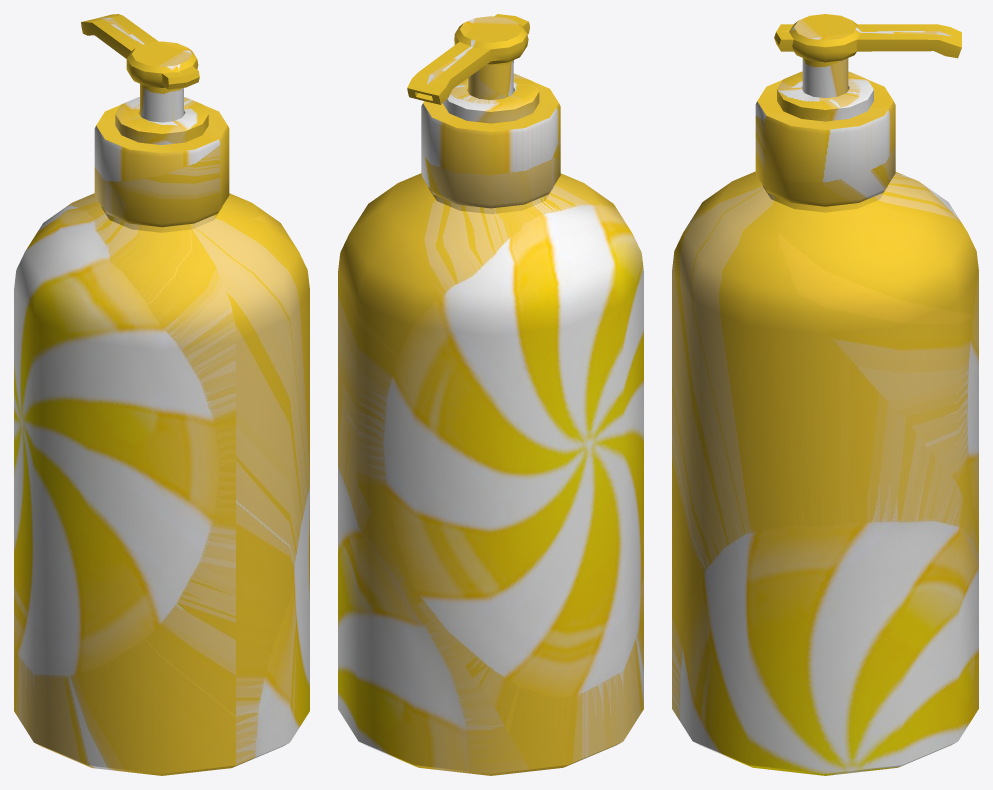
File: pump.fbx
3 renders of one model, left to right at view 1: azimuth 30°, elevation 25°; view 2: azimuth 150°, elevation 25°; view 3: azimuth 270°, elevation 25°, orthographic. The views are drawn at different scales.
Parts seen in each view (by area): view 1: defaultMaterial, defaultMaterial.001, defaultMaterial.002; view 2: defaultMaterial, defaultMaterial.001, defaultMaterial.002; view 3: defaultMaterial, defaultMaterial.001, defaultMaterial.002.
Boxes of the visible parts, x1,y1,x2,y2 form: defaultMaterial: (14, 193, 309, 775); defaultMaterial.001: (94, 97, 229, 227); defaultMaterial.002: (81, 14, 199, 122); defaultMaterial: (338, 173, 643, 775); defaultMaterial.001: (421, 73, 560, 208); defaultMaterial.002: (407, 14, 529, 104); defaultMaterial: (672, 171, 978, 775); defaultMaterial.001: (755, 71, 895, 206); defaultMaterial.002: (774, 14, 961, 97).
Bounding box in the file's own units: 40.45 × 100 × 40.45.
